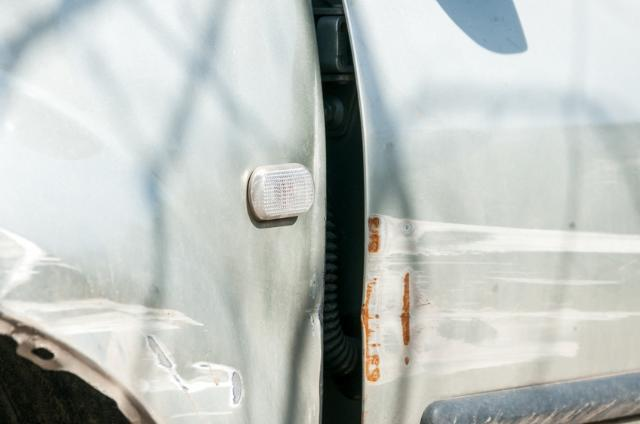Door: (355, 202, 640, 414)
Fender: (2, 199, 257, 422)
